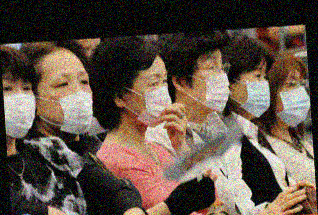with_mask: (40, 69, 95, 135), (127, 70, 173, 129), (187, 53, 231, 111), (4, 73, 37, 138), (233, 66, 273, 118), (277, 74, 311, 126)
